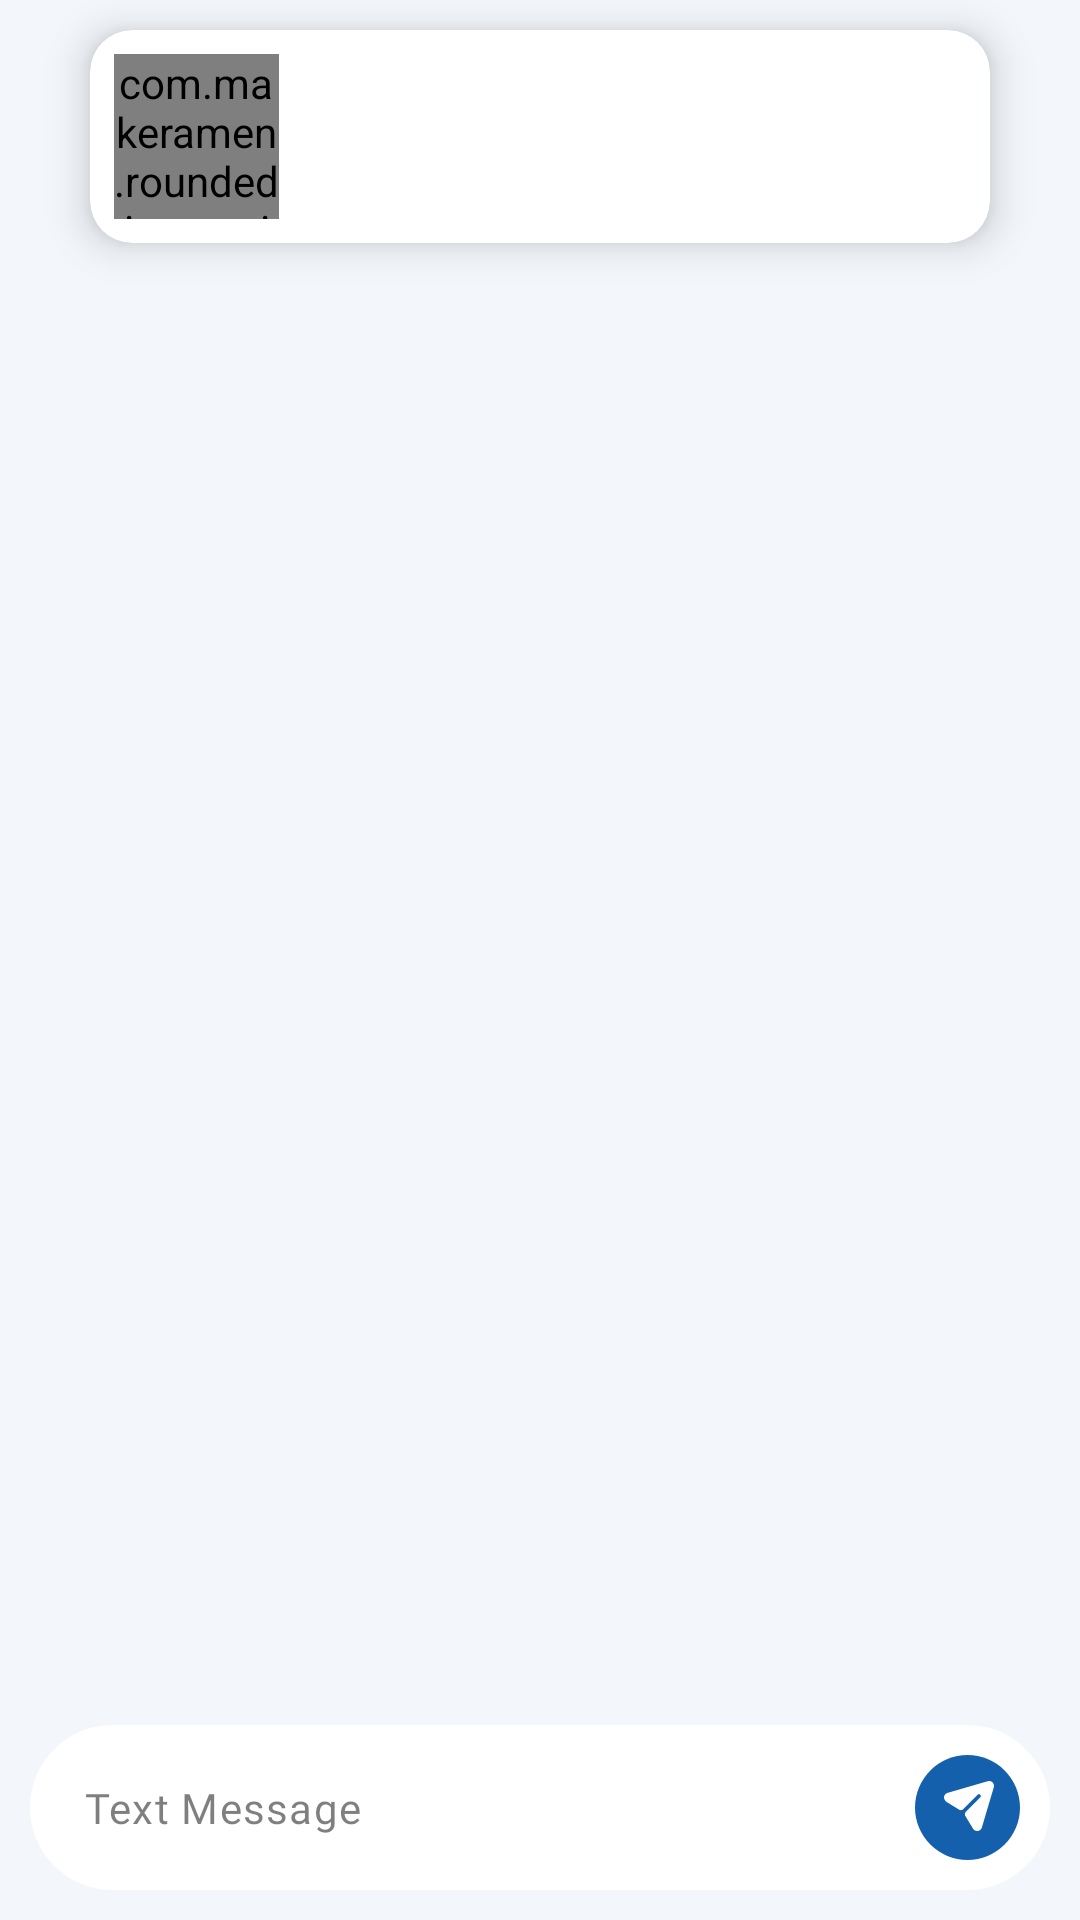

Point at icon controls on the screen. Image size 1080*1920, points as (x=x, y=y).
sent: (x=967, y=1807)
